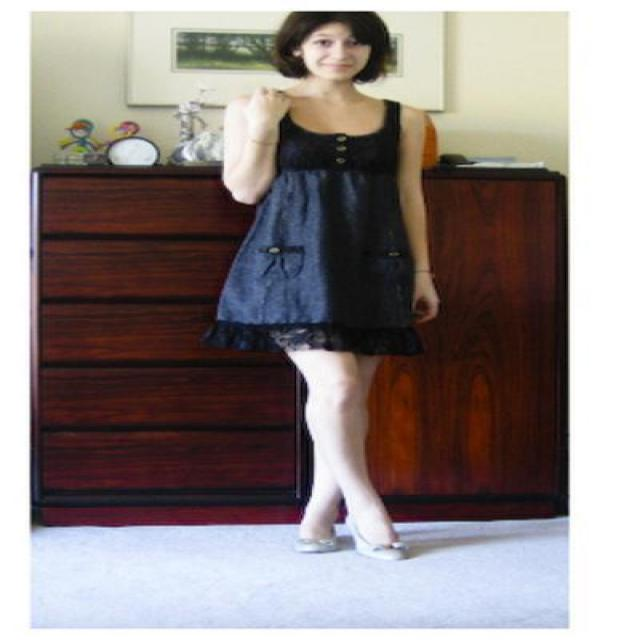dress: (189, 99, 440, 362)
shoe: (304, 525, 397, 568)
